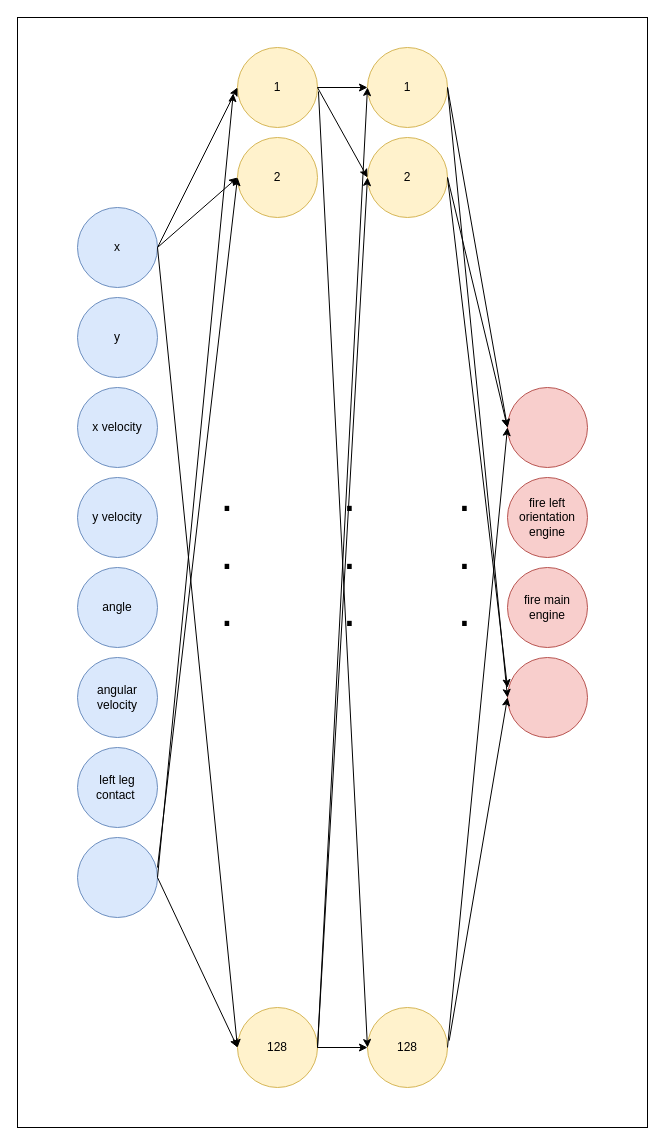
Some shapes in this 665 by 1145 pixel diagram are drawn without their labels. Here are the shapes that lost their labels. From the top down, the box of each, then its label:
(506, 386, 588, 468): do nothing
(506, 656, 588, 738): fire right orientation engine
(76, 836, 158, 918): right leg contact
